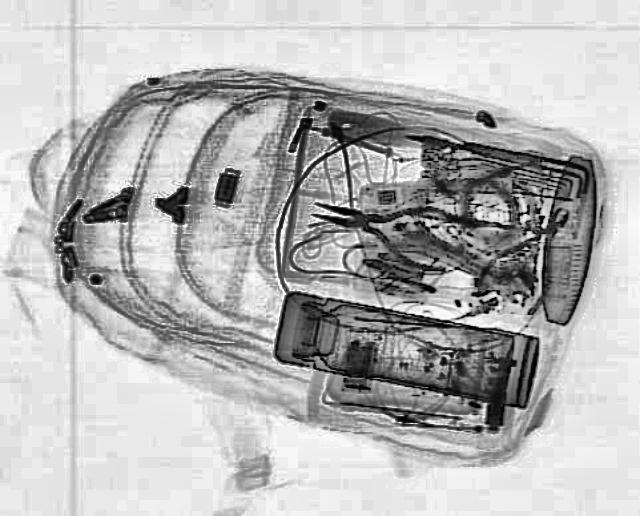Pliers: (297, 176, 468, 274)
